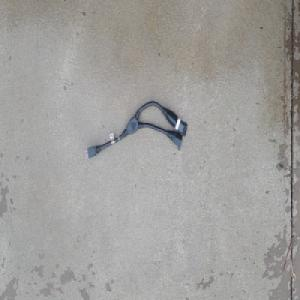Wire: (83, 100, 187, 160)
